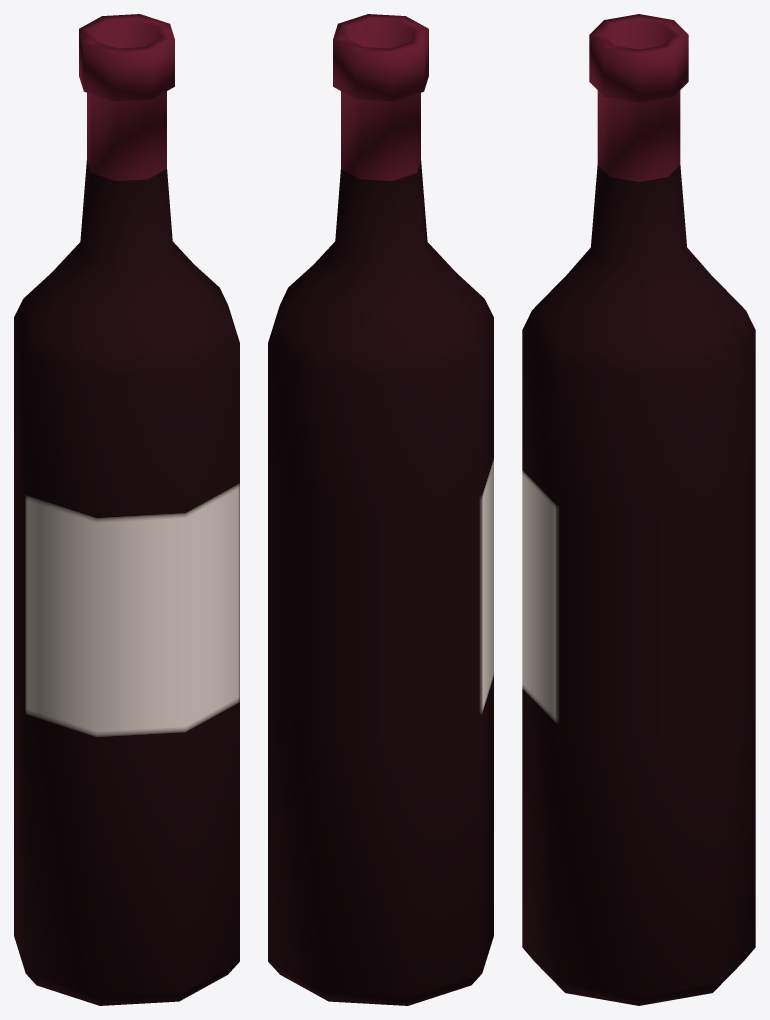
Rendered from red_wine.fbx.
3 renders of one model, left to right at view 1: azimuth 30°, elevation 25°; view 2: azimuth 150°, elevation 25°; view 3: azimuth 270°, elevation 25°, orthographic.
Parts seen in each view (by area): view 1: red_wine; view 2: red_wine; view 3: red_wine.
Boxes of the visible parts, box(x1,y1,x2,y2) form: red_wine: box(14, 14, 239, 1005); red_wine: box(268, 14, 493, 1005); red_wine: box(522, 14, 755, 1005).
Bounding box in the file's own units: 0.0501 × 0.2196 × 0.0501.
